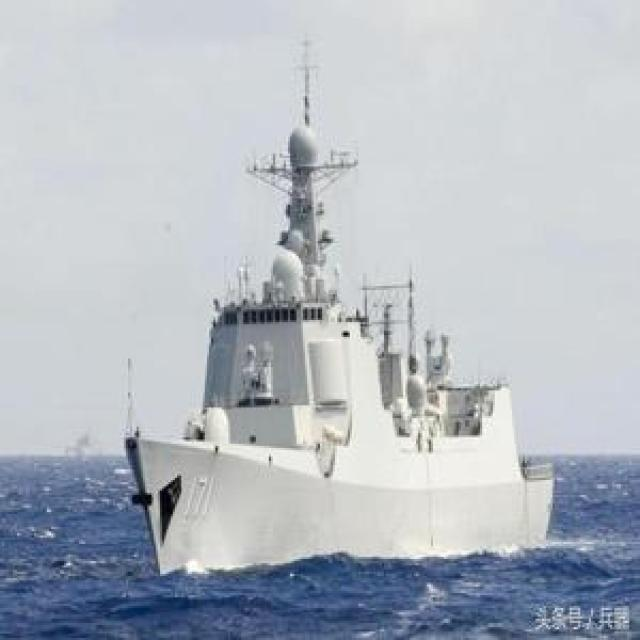navalvessels: (124, 38, 555, 571)
